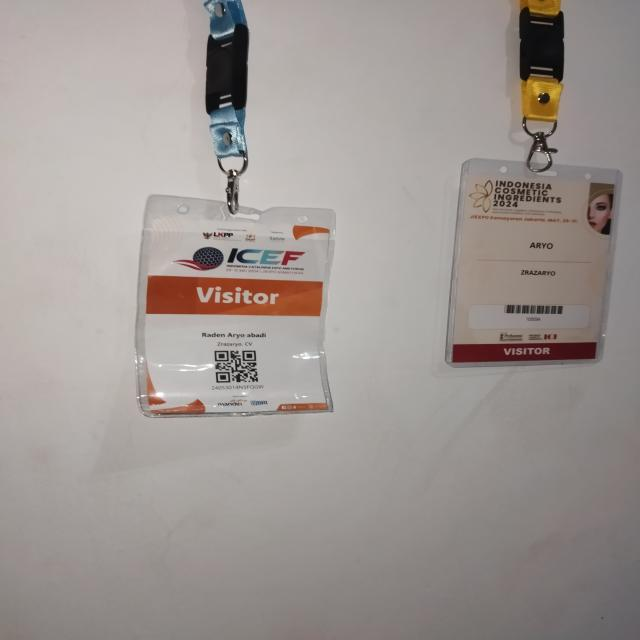ID_card: (134, 194, 336, 418), (444, 156, 621, 368)
